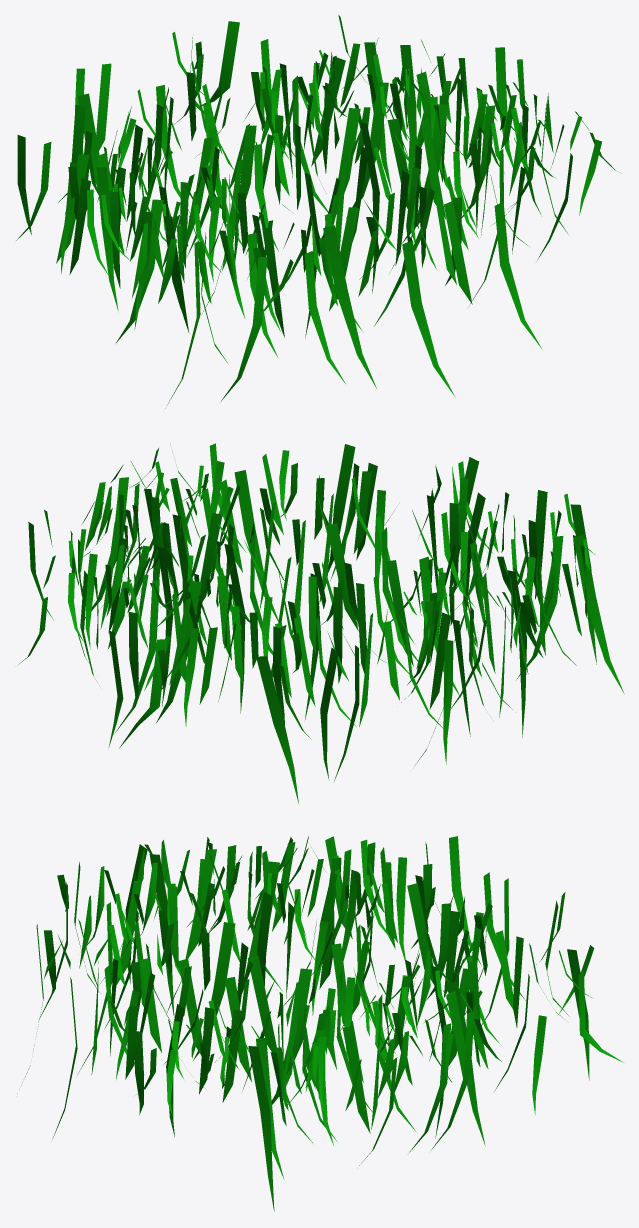
File: grassLod1.obj
3 renders of one model, top to bottom at view 1: azimuth 30°, elevation 25°; view 2: azimuth 150°, elevation 25°; view 3: azimuth 270°, elevation 25°, orthographic.
Visible parts, largest first — view 1: GrassLOD0_Mesh; view 2: GrassLOD0_Mesh; view 3: GrassLOD0_Mesh.
Part boxes in pixels (box(x1,y1,x2,y2)): GrassLOD0_Mesh: box(16, 15, 621, 408); GrassLOD0_Mesh: box(17, 443, 624, 803); GrassLOD0_Mesh: box(17, 836, 623, 1211).
Bounding box in the file's own units: 0.7877 × 0.2494 × 0.8548.
